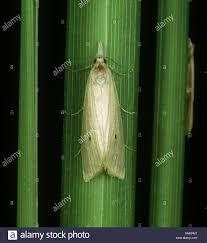insect: (69, 46, 138, 186)
